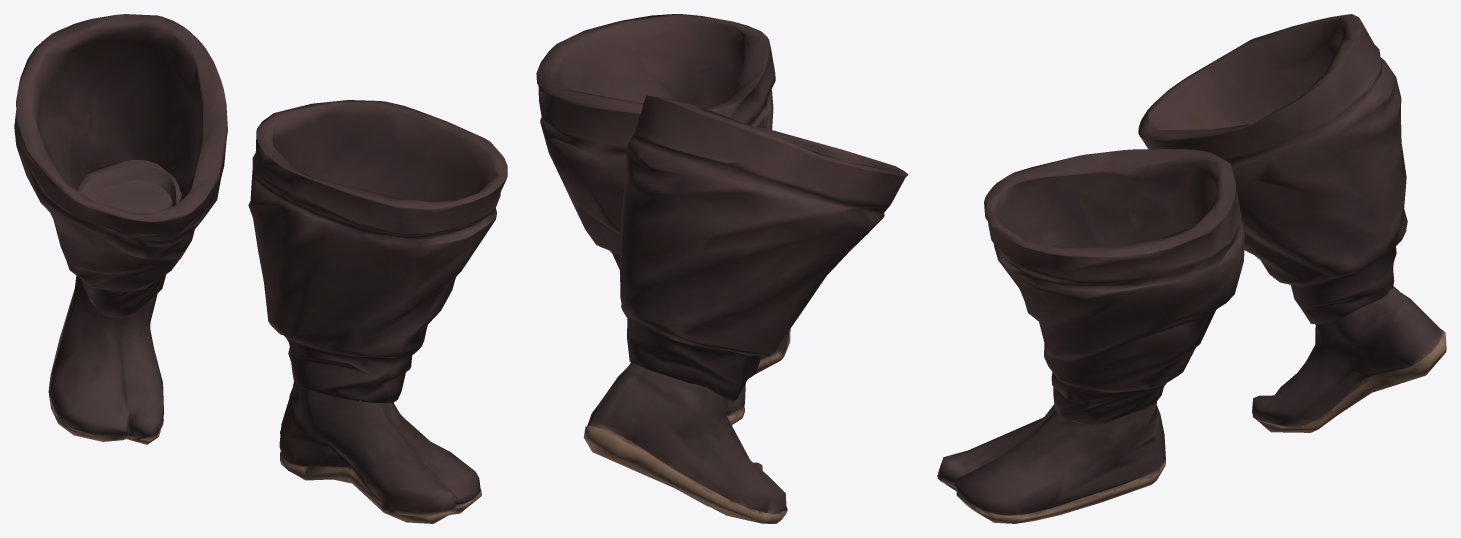
3 renders of one model, left to right at view 1: azimuth 30°, elevation 25°; view 2: azimuth 150°, elevation 25°; view 3: azimuth 270°, elevation 25°, orthographic. The views are drawn at different scales.
Parts seen in each view (by area): view 1: Shoes; view 2: Shoes; view 3: Shoes.
Part boxes in pixels (box(x1,y1,x2,y2)): Shoes: box(14, 14, 507, 523); Shoes: box(536, 14, 907, 523); Shoes: box(937, 14, 1446, 523).
Size of the model in its own units: 0.5587 by 0.5484 by 0.6383.
Materials: 1 (1 with a texture image).
